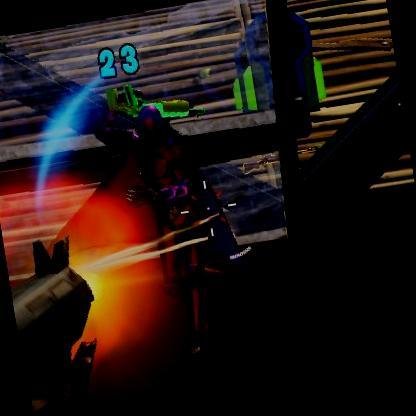person: (104, 98, 224, 360)
